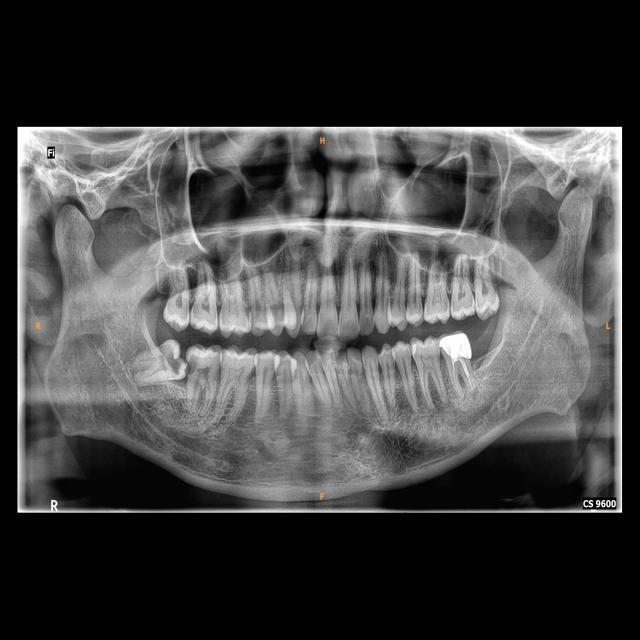dentin-curugu: (168, 350, 184, 377)
kanal-tedavisi: (446, 356, 477, 390)
kaplama: (439, 334, 477, 362)
